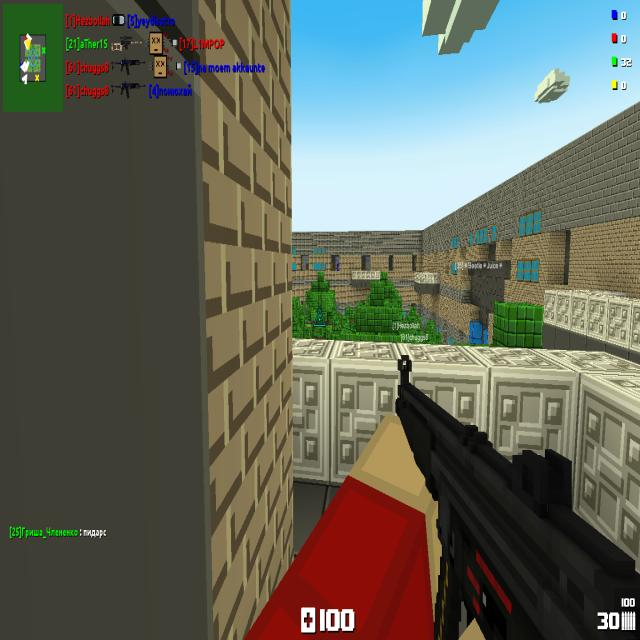enemy: (337, 262, 339, 270)
